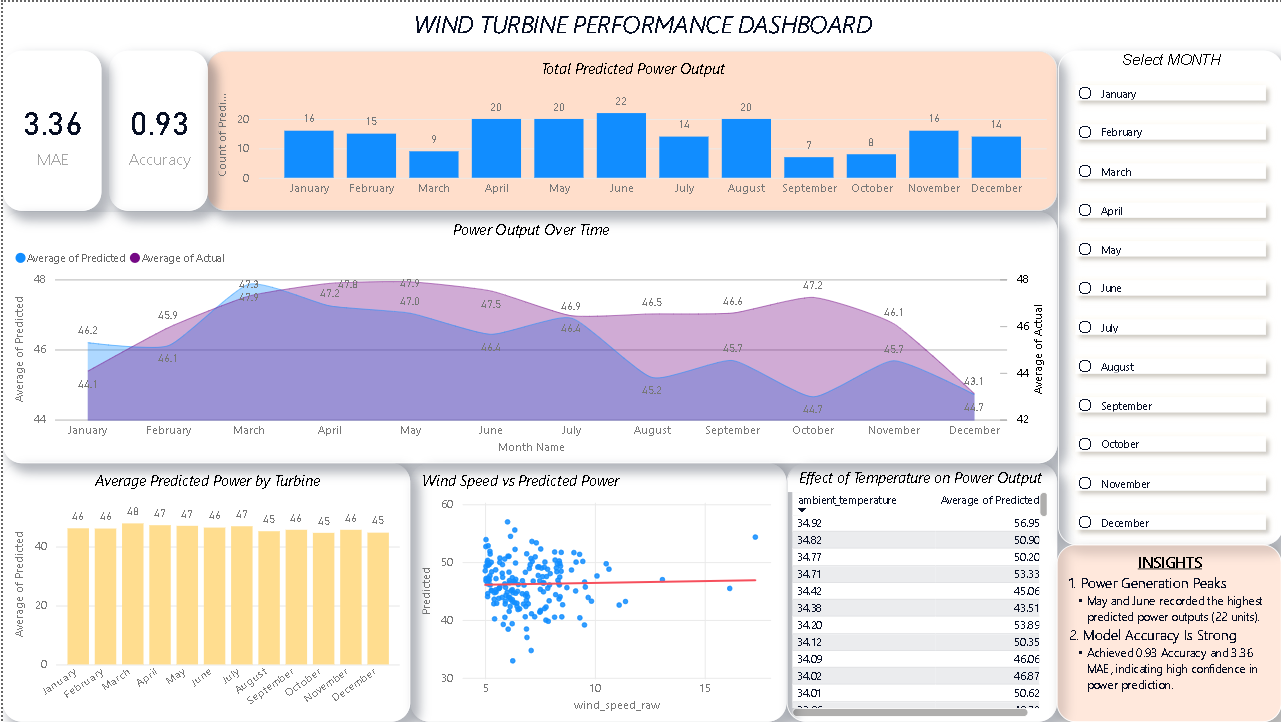

What the dashboard file says about the page in this screenshot:
{"tool":"powerbi","page":{"name":"Wind Turbine Performance Dashboard","canvas":[1280,720],"ordinal":0},"visuals":[{"type":"scatterChart","title":"Wind Speed vs Predicted Power","fields":{"X":["turbine_predictions.wind_speed_raw"],"Y":["turbine_predictions.Predicted"]},"box":[407.1,461.8,376.1,258.2],"z":0},{"type":"clusteredColumnChart","title":"Average Predicted Power by Turbine","fields":{"Category":["turbine_predictions.Month Name"],"Y":["Avg(turbine_predictions.Predicted)"]},"box":[0,461.8,407.1,258.2],"z":1000},{"type":"pivotTable","title":"Effect of Temperature on Power Output","fields":{"Rows":["turbine_predictions.ambient_temperature"],"Columns":["turbine_predictions.ambient_temperature","turbine_predictions.Predicted"],"Values":["Avg(turbine_predictions.Predicted)1"]},"box":[783.3,461.8,270.6,258.2],"z":2000},{"type":"areaChart","title":"Power Output Over Time","fields":{"Category":["turbine_predictions.Month Name"],"Y":["Avg(turbine_predictions.Predicted)"],"Y2":["Avg(turbine_predictions.Actual)"]},"box":[0,210,1054.3,251.4],"z":3000},{"type":"columnChart","title":"Total Predicted Power Output","fields":{"Category":["turbine_predictions.Month Name"],"Y":["CountNonNull(turbine_predictions.Predicted)"]},"box":[204.3,48.6,850,160],"z":4000},{"type":"card","fields":{"Values":["turbine_predictions.Accuracy"]},"box":[105.7,48.6,98.6,160],"z":5000},{"type":"listSlicer","title":"Select MONTH","fields":{"Values":["turbine_predictions.Month Name"]},"box":[1055.1,48.4,224.7,494],"z":6000},{"type":"textbox","box":[0,0,1280,48.6],"z":7000},{"type":"card","fields":{"Values":["turbine_predictions.MAE"]},"box":[0,48.6,98.6,160],"z":8000},{"type":"textbox","title":"INSIGHTS ","box":[1053.9,542.4,224.7,177.5],"z":9000}]}

Visuals, with their boxes in screenshot pixels (x1, y1, x2, y2), scaled from the page's 1280x720 canvas onto the 1281x722 screenshot:
"Wind Speed vs Predicted Power" scatterChart: 407,463,784,721
"Average Predicted Power by Turbine" clusteredColumnChart: 0,463,407,721
"Effect of Temperature on Power Output" pivotTable: 784,463,1055,721
"Power Output Over Time" areaChart: 0,211,1055,463
"Total Predicted Power Output" columnChart: 204,49,1055,209
card - turbine_predictions.Accuracy: 106,49,204,209
"Select MONTH" listSlicer: 1056,49,1280,544
textbox: 0,0,1280,49
card - turbine_predictions.MAE: 0,49,99,209
"INSIGHTS " textbox: 1055,544,1280,721
